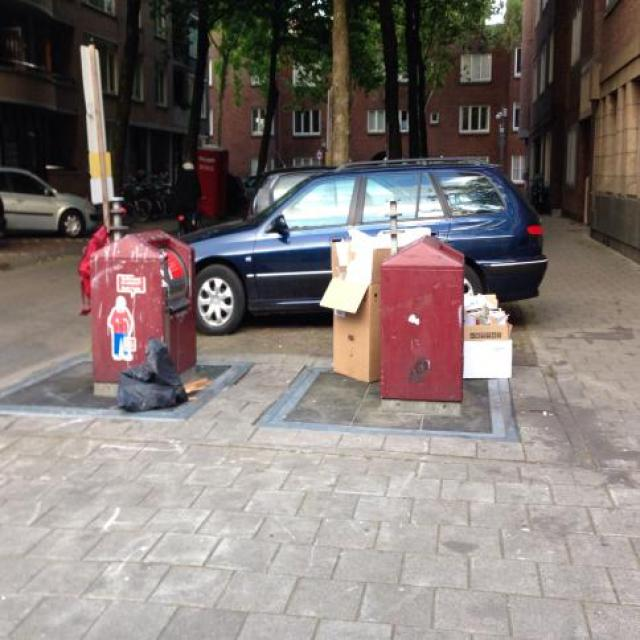Anorganik: (119, 329, 192, 424)
